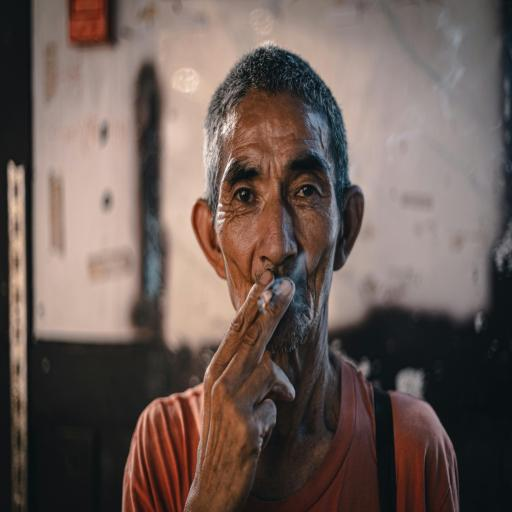merokok: (242, 187, 324, 358)
